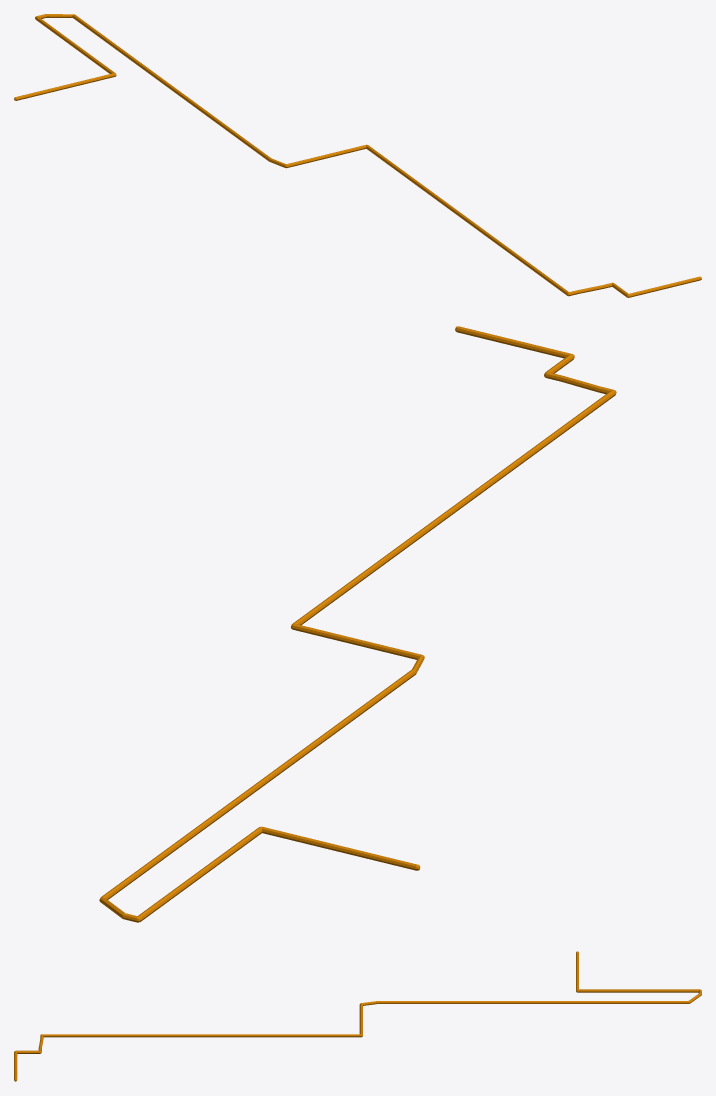
3 renders of one model, top to bottom at view 1: azimuth 30°, elevation 25°; view 2: azimuth 150°, elevation 25°; view 3: azimuth 270°, elevation 25°, orthographic. The views are drawn at different scales.
Bounding box in the file's own units: 1856 × 20 × 4199.
